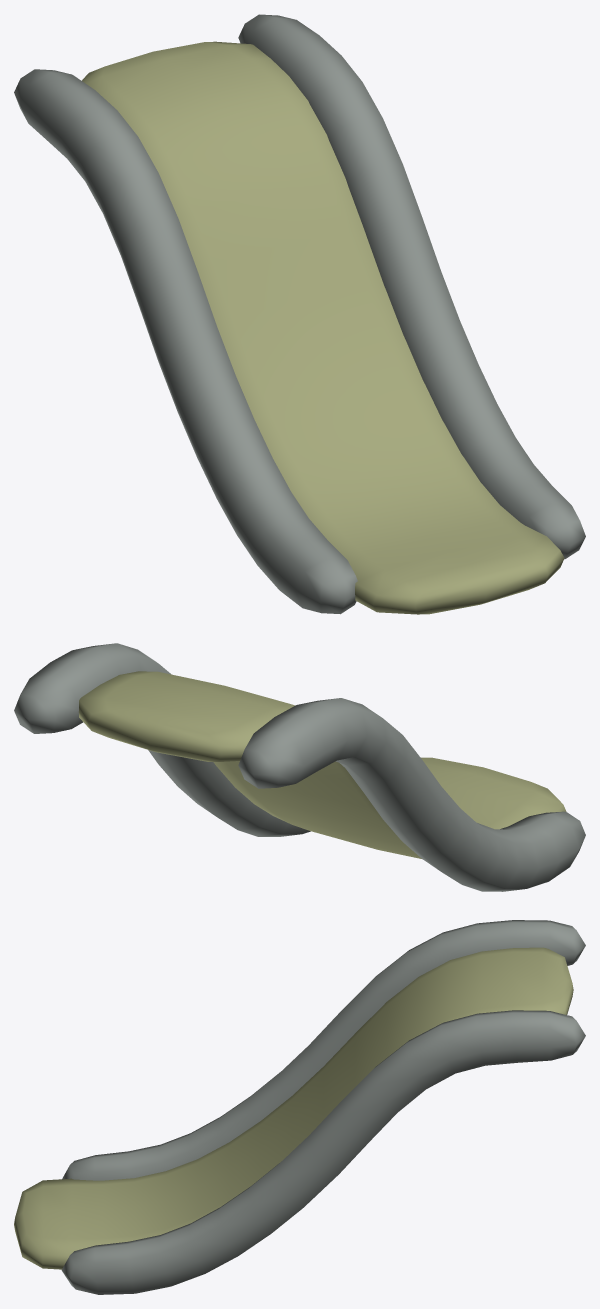
File: slide.fbx
The picture shows the model from 3 angles, top to bottom: view 1: azimuth 30°, elevation 25°; view 2: azimuth 150°, elevation 25°; view 3: azimuth 270°, elevation 25°; orthographic projection. The views are drawn at different scales.
Parts seen in each view (by area): view 1: Cube, Cube.001, Cube.002; view 2: Cube, Cube.001, Cube.002; view 3: Cube, Cube.002, Cube.001.
Part boxes in pixels (bbox=[...]): Cube: bbox=[82, 41, 564, 614]; Cube.001: bbox=[14, 69, 357, 614]; Cube.002: bbox=[238, 14, 585, 559]; Cube: bbox=[78, 671, 566, 859]; Cube.001: bbox=[238, 698, 585, 891]; Cube.002: bbox=[14, 643, 310, 836]; Cube: bbox=[14, 947, 573, 1269]; Cube.002: bbox=[61, 1010, 585, 1294]; Cube.001: bbox=[62, 920, 585, 1180].
Size of the model in its own units: 335 by 378 by 702.
